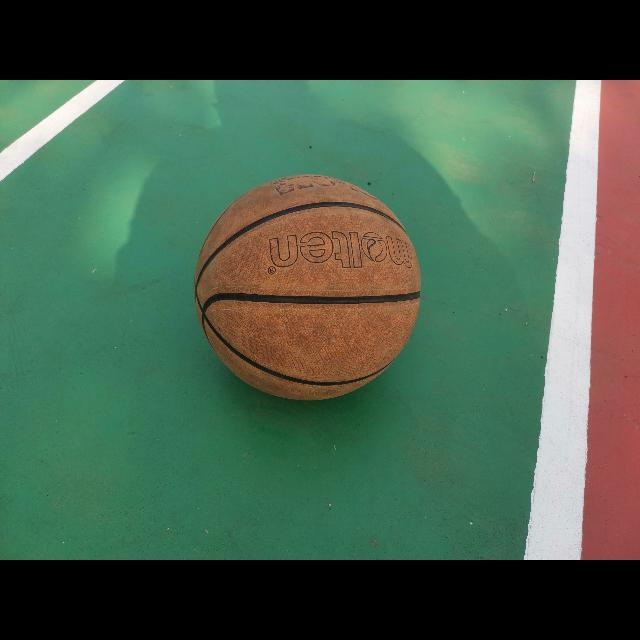basketball: (195, 175, 421, 401)
